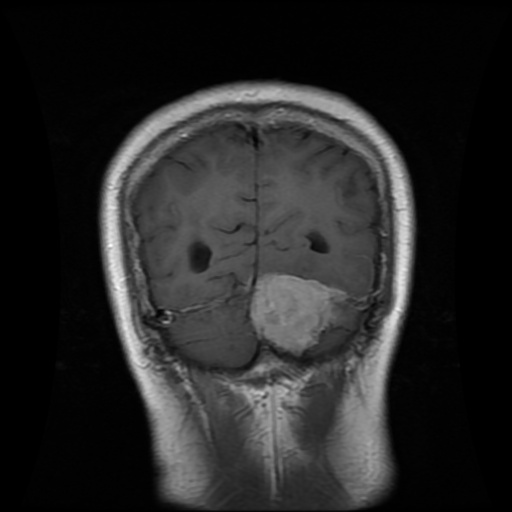meningioma: (250, 272, 343, 354)
